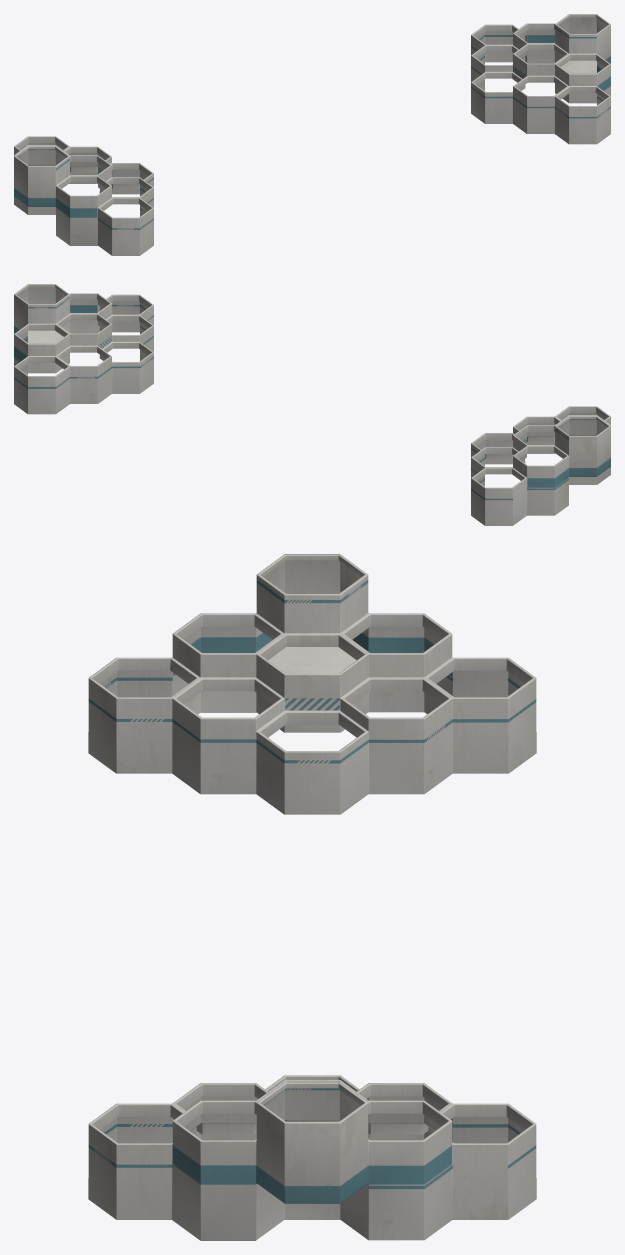
Rendered from HexPlantPods.dae.
3 views of the same model, one above another, from view 1: azimuth 30°, elevation 25°; view 2: azimuth 150°, elevation 25°; view 3: azimuth 270°, elevation 25° (orthographic). The views are drawn at different scales.
Visible parts, largest first — view 1: HexPlantPods; view 2: HexPlantPods; view 3: HexPlantPods.
Part boxes in pixels (<box>): HexPlantPods: <box>14,14,610,255</box>; HexPlantPods: <box>14,284,610,525</box>; HexPlantPods: <box>88,554,536,1240</box>.
Bounding box in the file's own units: 168 × 55.98 × 19.08.
1 material, 1 textured.
